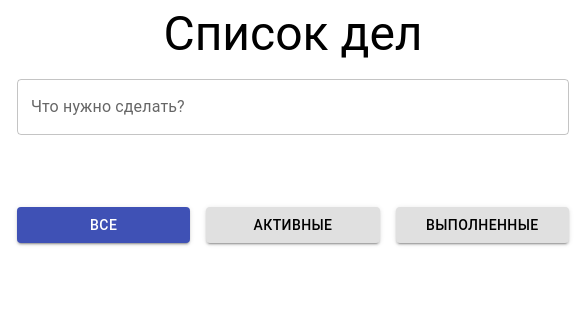
it: Todo App › can add a new todo
Type "Новая задача" into the field labelled "Что нужно сделать?". click: (293, 107)
box: [17,79,569,135]
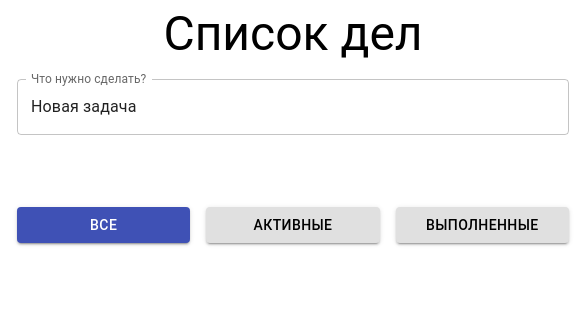
Submit the form from the field labelled "Что нужно сделать?", box [17,79,569,135]
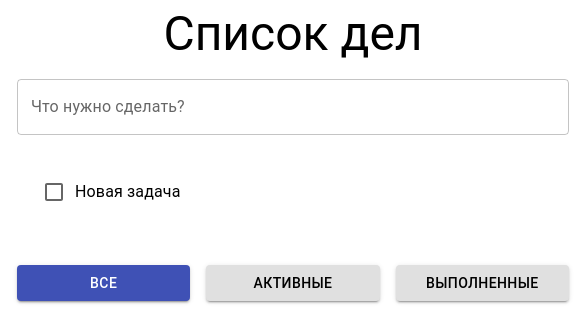
Expected: the text "Новая задача" is shown, [75,182,180,201]
